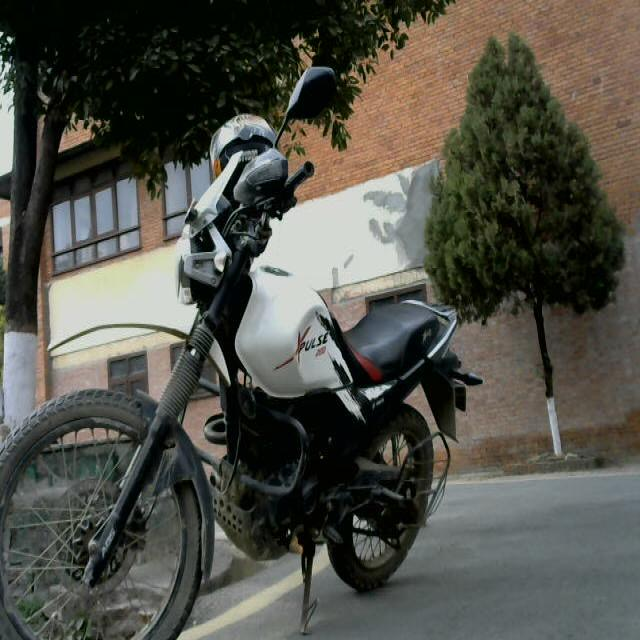Bike: (15, 53, 485, 640)
trees: (428, 31, 632, 502)
